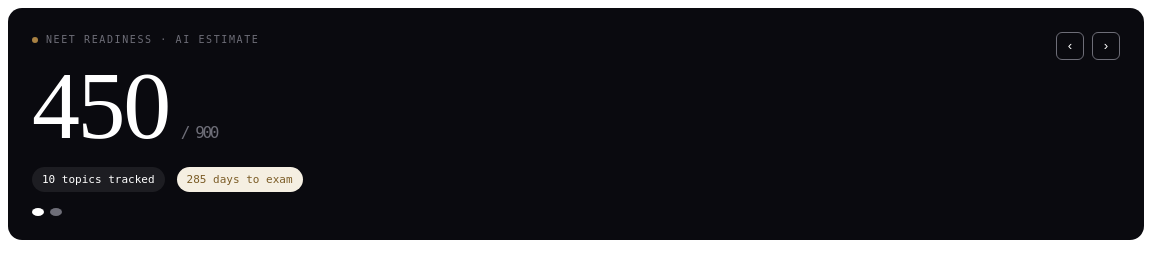
Test case: ReadinessCarousel › shows the first exam's readiness and switches on next
Expected: the text "NEET Readiness · AI estimate" is shown, [32,32,259,48]
Expected: the text "450" is shown, [32,52,169,159]
Step 1. Click the button named "next exam" → (1106, 46), box [1092,32,1120,60]
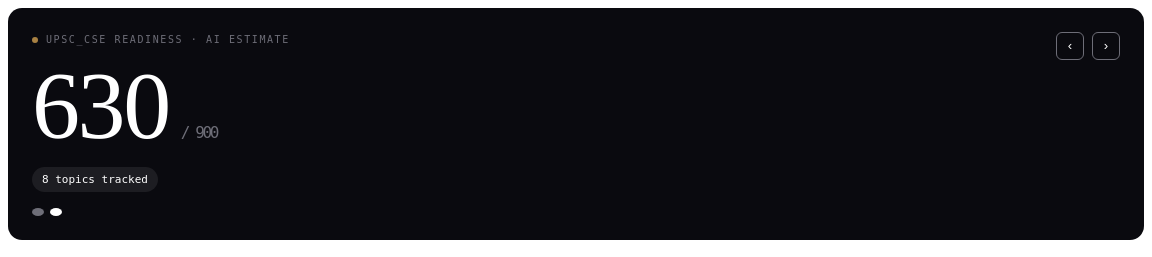
Now the text "UPSC_CSE Readiness · AI estimate" is shown, box [32,32,290,48]
Now the text "630" is shown, box [32,52,169,159]
